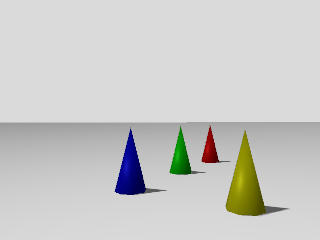blue: (115, 125, 146, 196)
green: (167, 124, 192, 175)
red: (198, 125, 221, 164)
yellow: (224, 128, 267, 216)
